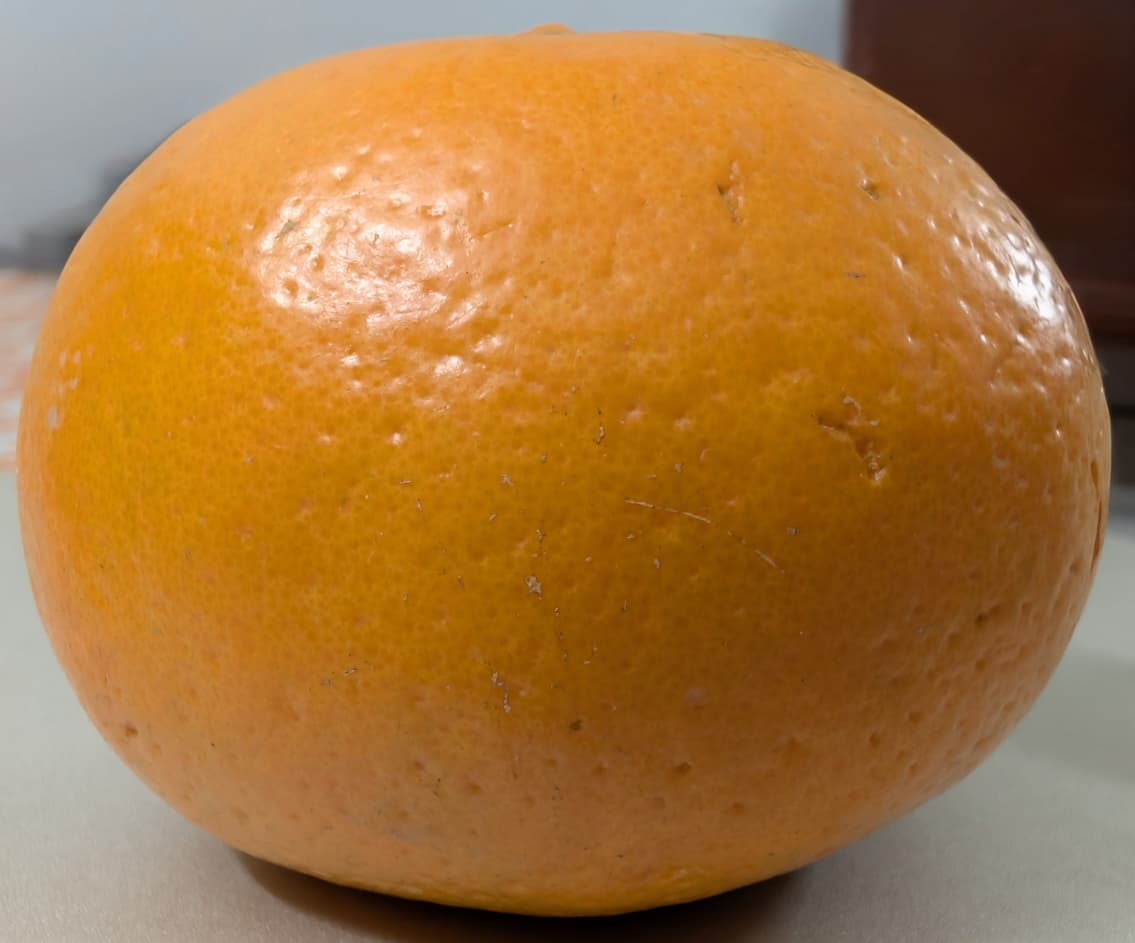orange: (54, 197, 942, 889)
